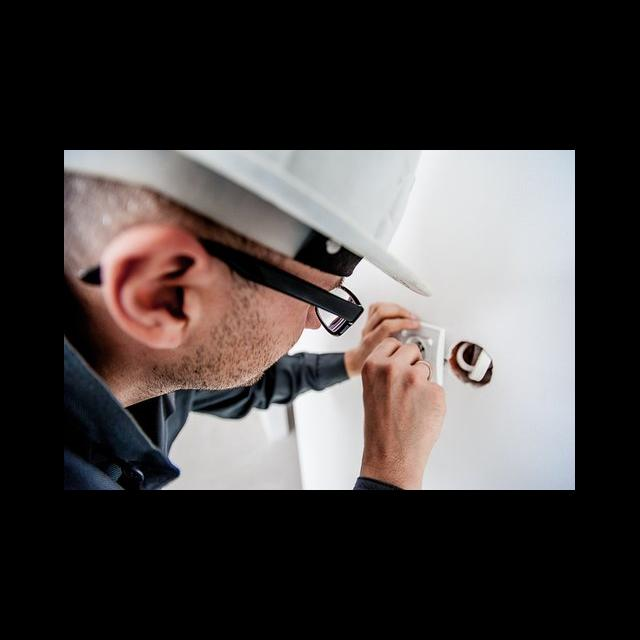male: (64, 153, 433, 375)
